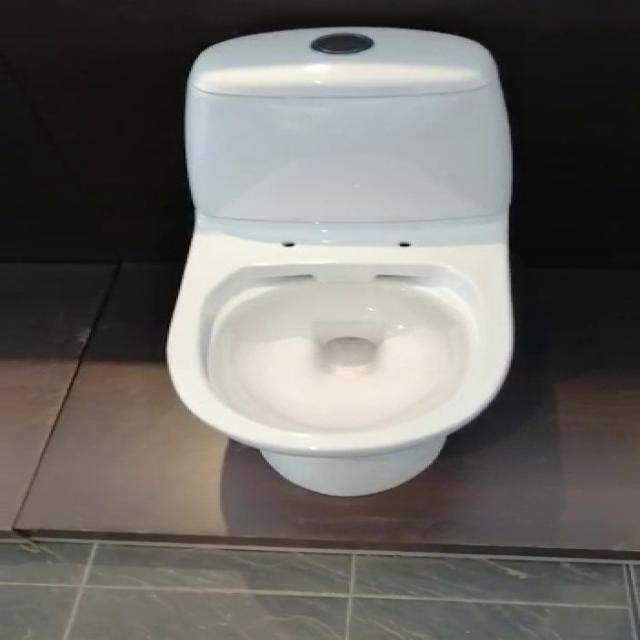toilet: (163, 25, 514, 497)
